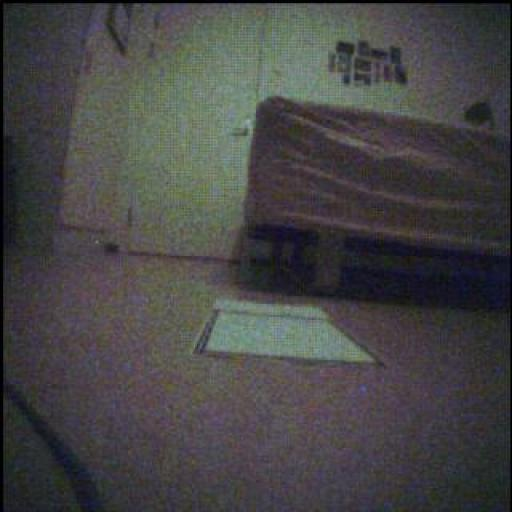pad: (195, 300, 380, 364)
